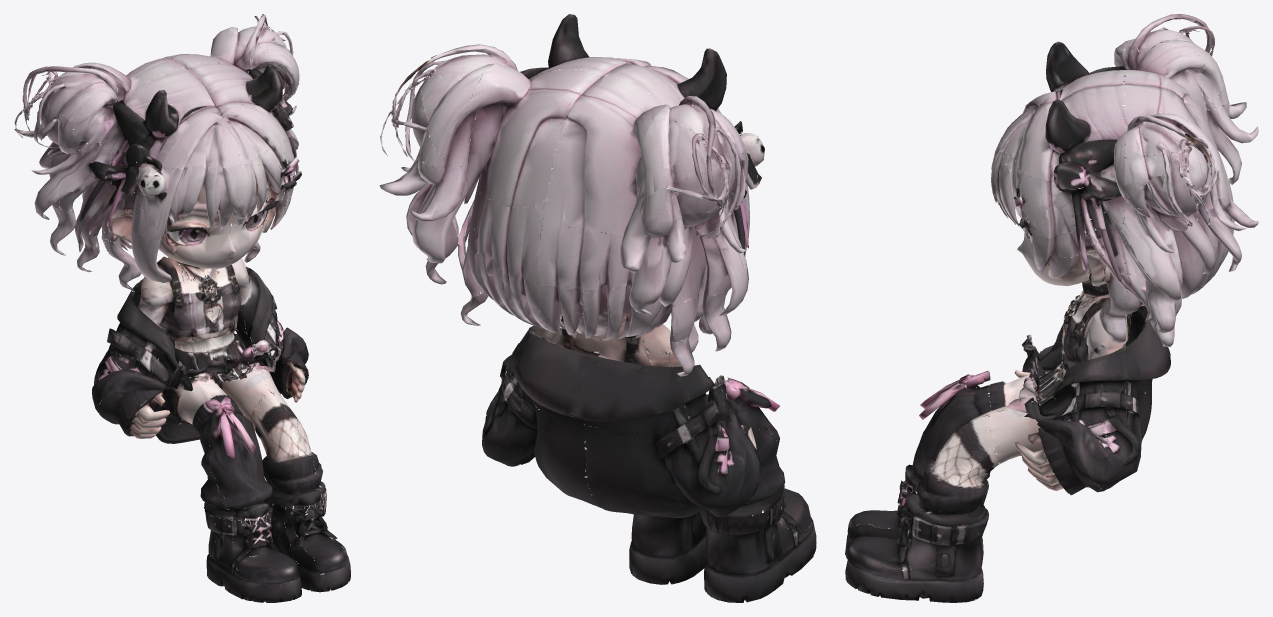
File: studio-visitor-rose-v3.glb
3 renders of one model, left to right at view 1: azimuth 30°, elevation 25°; view 2: azimuth 150°, elevation 25°; view 3: azimuth 270°, elevation 25°, orthographic. The views are drawn at different scales.
Visible parts, largest first — view 1: rose_continuous_body; view 2: rose_continuous_body; view 3: rose_continuous_body.
Part boxes in pixels (box(x1,y1,x2,y2)): rose_continuous_body: box(14, 14, 350, 602); rose_continuous_body: box(379, 14, 816, 602); rose_continuous_body: box(845, 14, 1258, 602).
Bounding box in the file's own units: 0.58 × 0.9548 × 0.707.
5 materials, 5 textured.
